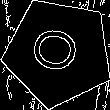O_E: (29, 27, 88, 78)
